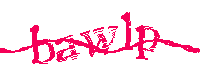a: (54, 35, 79, 62)
b: (31, 24, 54, 65)
l: (119, 9, 136, 53)
p: (135, 23, 161, 61)
w: (79, 23, 119, 59)
